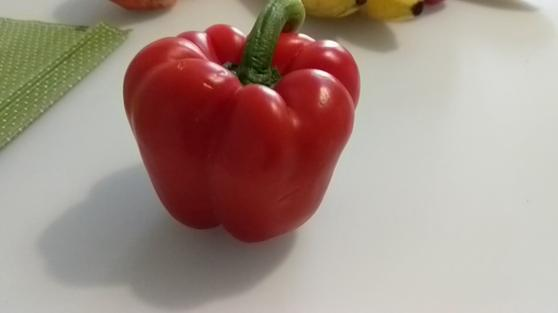pepper: (122, 1, 363, 241)
